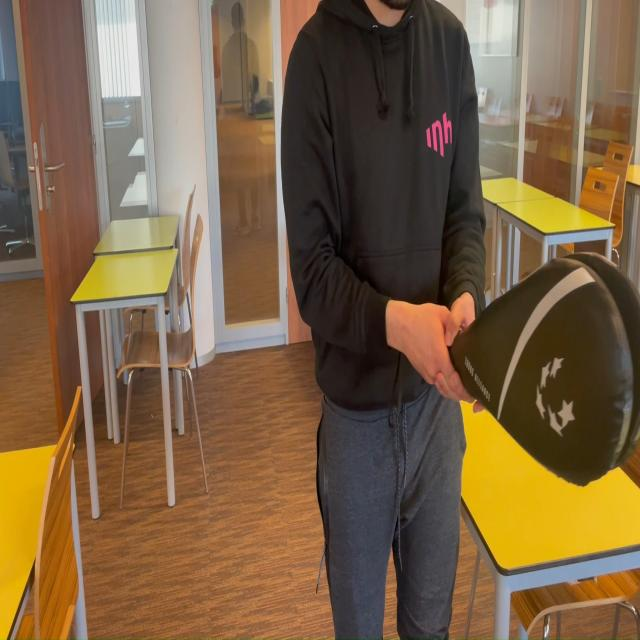paddle: (472, 251, 640, 468)
